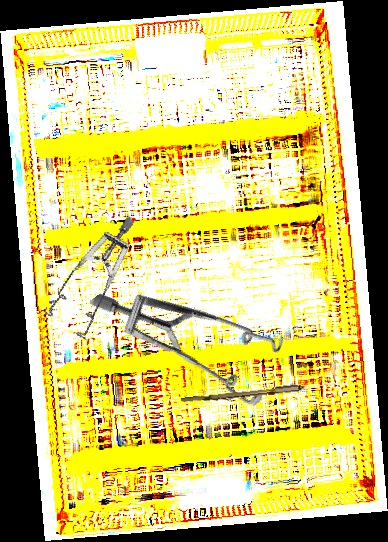Speculum: (89, 222, 306, 450), (23, 215, 171, 351)
Surgical Spoon: (181, 378, 344, 406)
